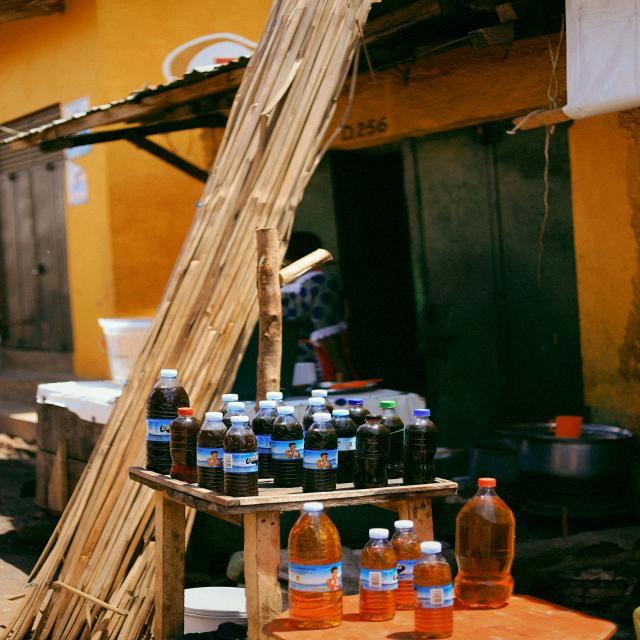Bottle: (454, 478, 515, 608), (288, 503, 342, 629), (146, 370, 189, 474), (414, 542, 453, 638), (359, 529, 397, 621), (224, 416, 258, 496), (303, 413, 337, 492), (354, 414, 389, 489), (272, 406, 304, 487), (391, 521, 420, 609), (403, 409, 437, 484), (197, 412, 227, 492), (170, 408, 201, 483), (252, 400, 277, 478), (380, 401, 404, 479), (332, 410, 357, 483), (302, 398, 326, 432), (223, 401, 246, 429), (349, 399, 370, 426), (312, 390, 333, 413), (219, 394, 238, 416), (266, 392, 285, 407)
